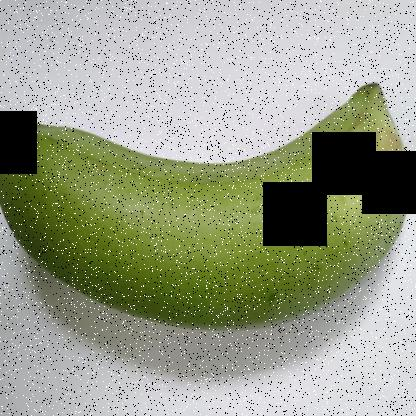freshunripe: (1, 59, 415, 344)
